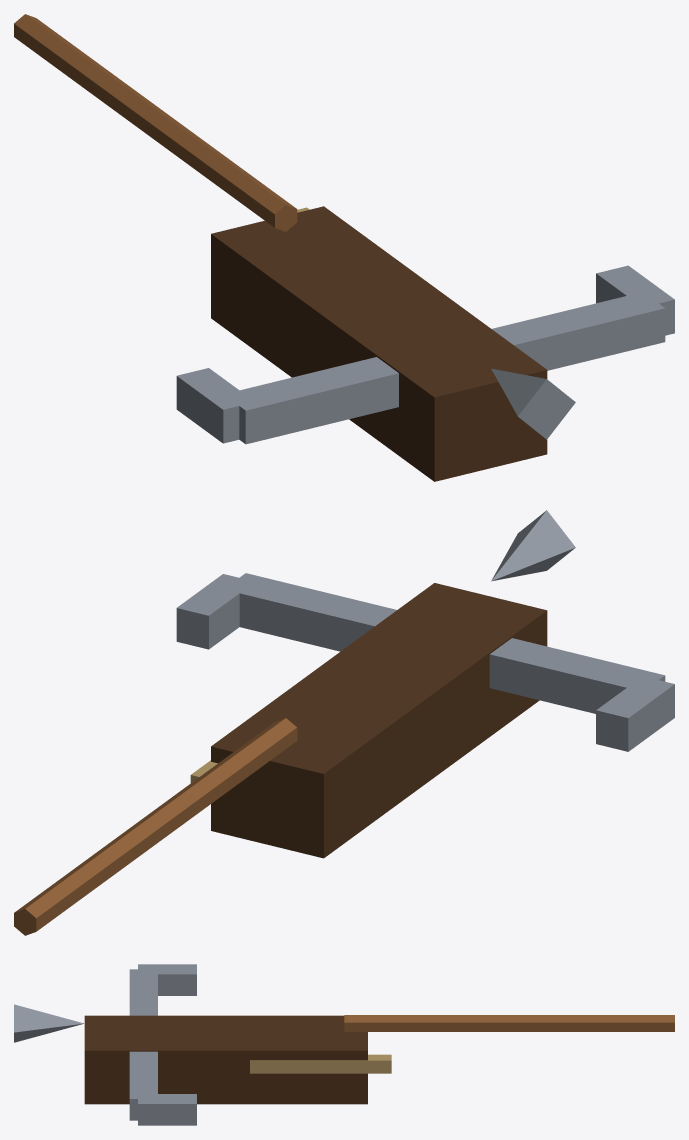
Rendered from HarpoonHead.obj.
3 views of the same model, one above another, from view 1: azimuth 30°, elevation 25°; view 2: azimuth 150°, elevation 25°; view 3: azimuth 270°, elevation 25° (orthographic). The views are drawn at different scales.
Parts seen in each view (by area): view 1: HarpoonHead; view 2: HarpoonHead; view 3: HarpoonHead.
Boxes of the visible parts, box(x1,y1,x2,y2) form: HarpoonHead: box(14, 14, 674, 481); HarpoonHead: box(14, 510, 674, 935); HarpoonHead: box(14, 964, 674, 1125).
Bounding box in the file's own units: 1.4 × 0.385 × 2.8.
